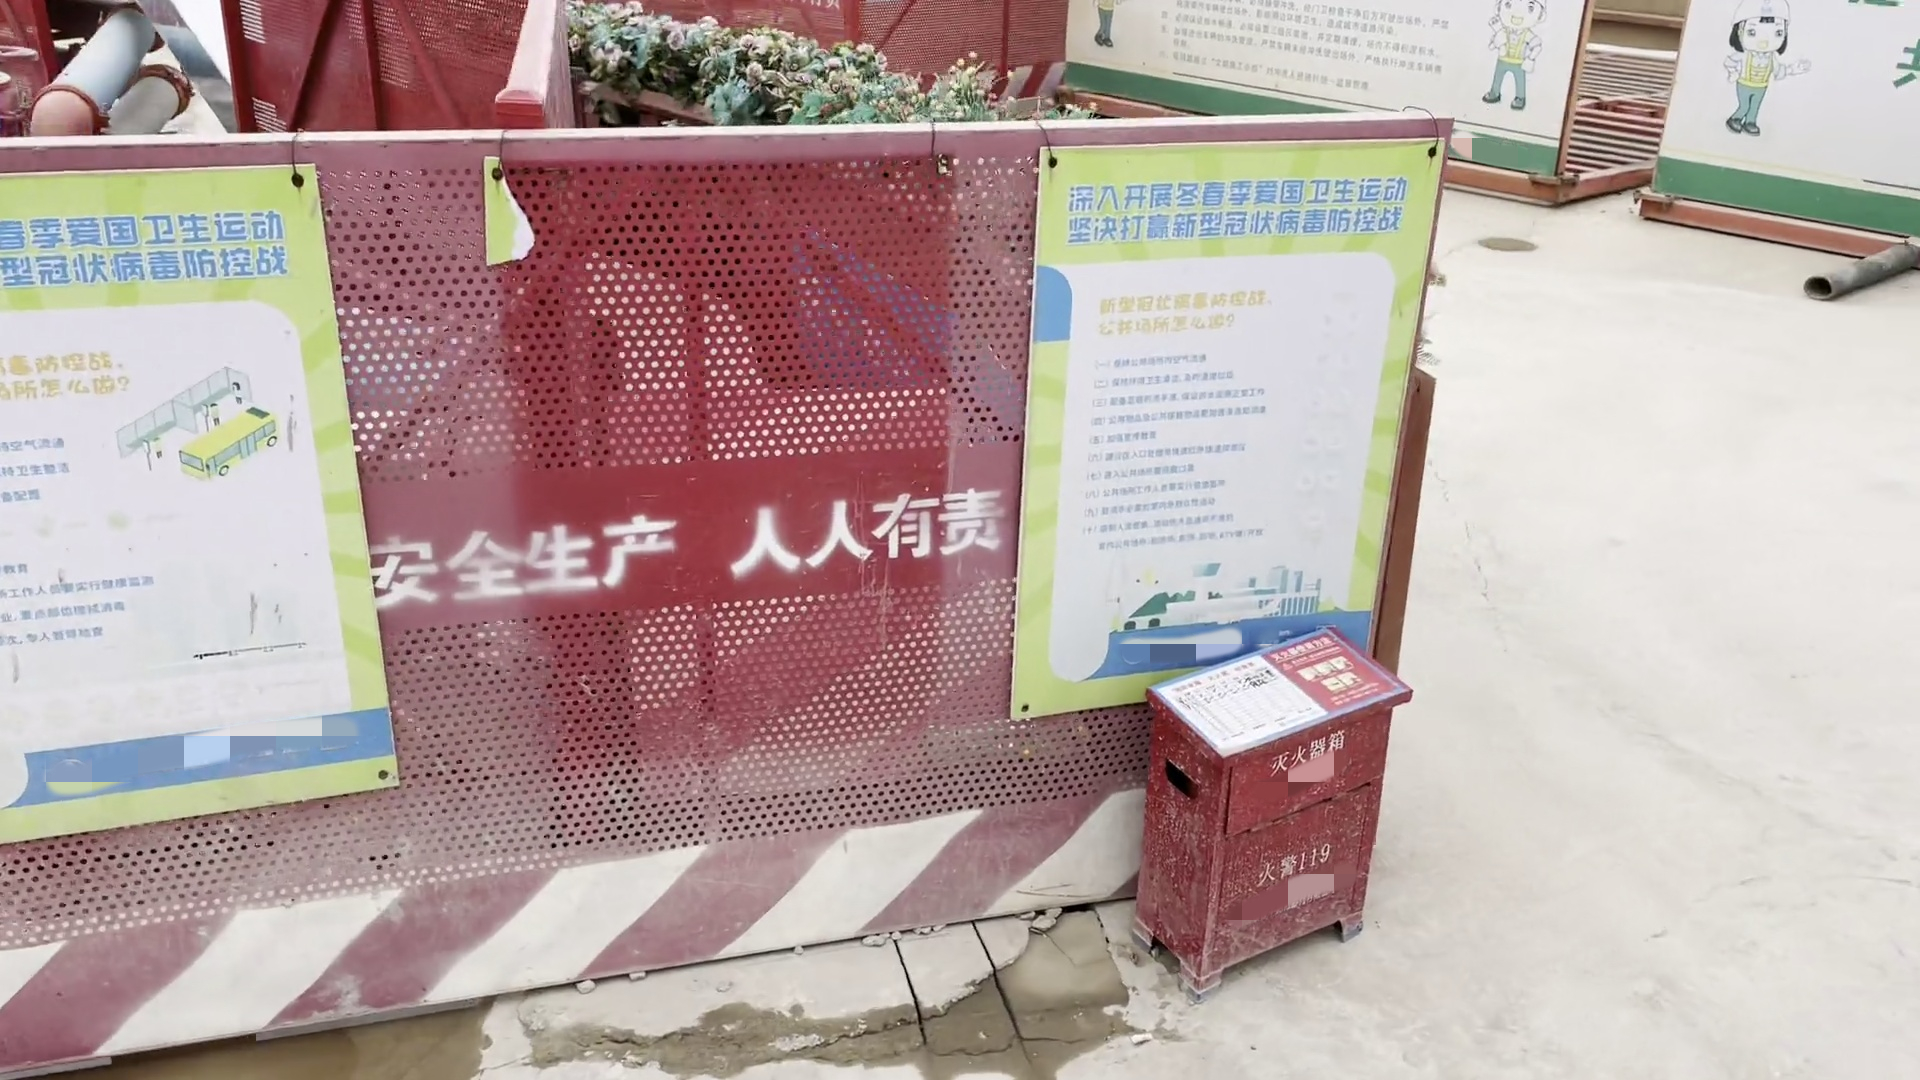fence: (1, 146, 1451, 928)
slogan: (1026, 141, 1455, 735), (5, 152, 330, 856), (365, 491, 1009, 607)
